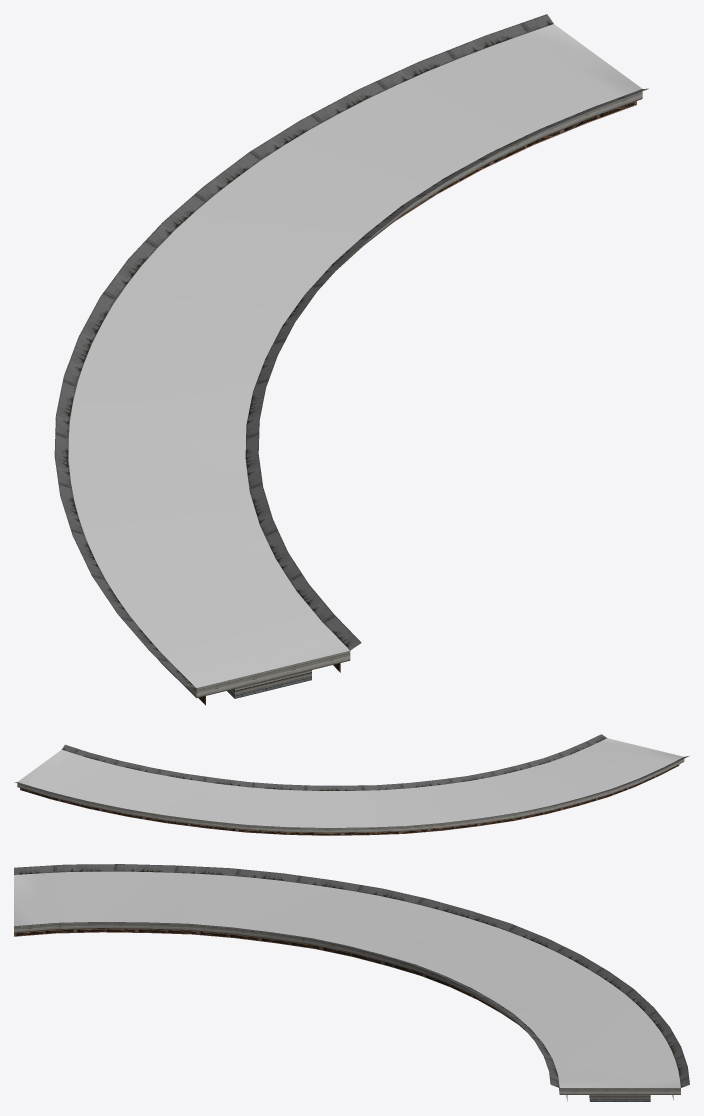
The picture shows the model from 3 angles, top to bottom: view 1: azimuth 30°, elevation 25°; view 2: azimuth 150°, elevation 25°; view 3: azimuth 270°, elevation 25°; orthographic projection. The views are drawn at different scales.
Parts seen in each view (by area): view 1: Empty_Mesh; view 2: Empty_Mesh; view 3: Empty_Mesh.
Part boxes in pixels (x1=…): Empty_Mesh: x1=54, y1=14, x2=648, y2=705; Empty_Mesh: x1=14, y1=734, x2=688, y2=835; Empty_Mesh: x1=14, y1=864, x2=689, y2=1101.
Size of the model in its own units: 89.2 by 12.5 by 89.2.
